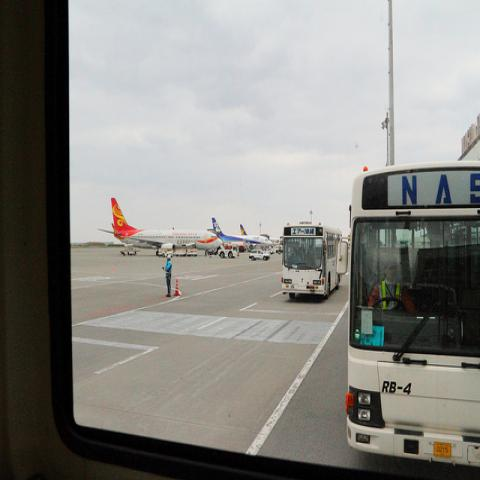bus: (336, 162, 479, 473), (277, 227, 337, 301)
car: (276, 245, 281, 253)
truck: (218, 244, 239, 259), (249, 248, 271, 260)
